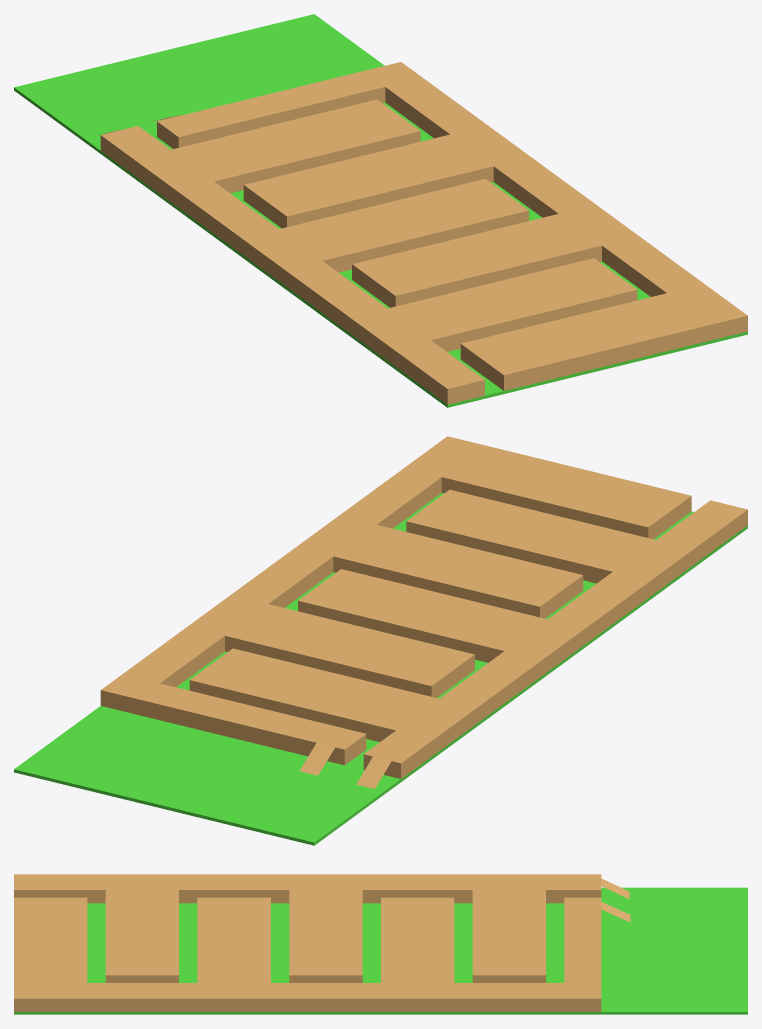
The model's file is TestMap.fbx.
The picture shows the model from 3 angles, top to bottom: view 1: azimuth 30°, elevation 25°; view 2: azimuth 150°, elevation 25°; view 3: azimuth 270°, elevation 25°; orthographic projection. The views are drawn at different scales.
Parts seen in each view (by area): view 1: Wall; view 2: Wall; view 3: Wall.
Part boxes in pixels (x1=…): Wall: x1=14, y1=14, x2=747, y2=407; Wall: x1=14, y1=436, x2=747, y2=845; Wall: x1=14, y1=874, x2=747, y2=1014.
Bounding box in the file's own units: 20000 × 1200 × 50000.
